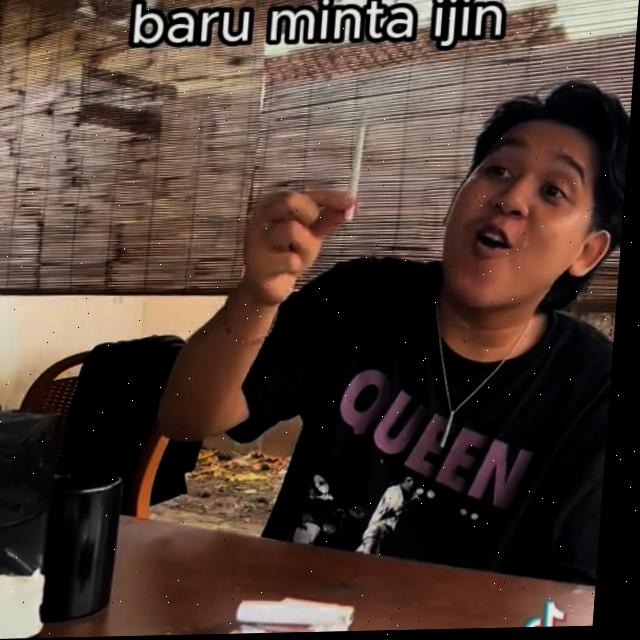cigarette: (347, 126, 368, 223)
